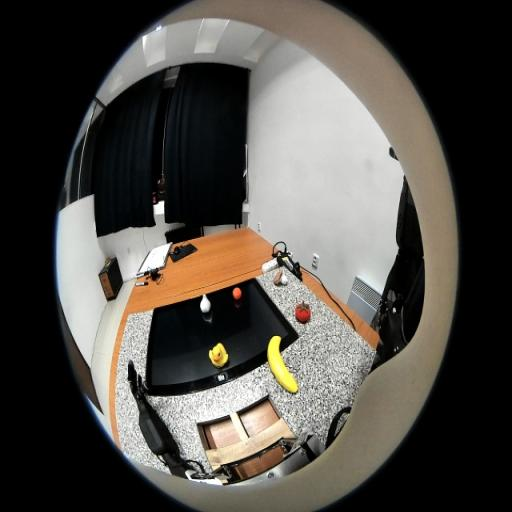Banana: (267, 335, 298, 392)
Duck: (209, 342, 229, 368)
LeftHand: (130, 382, 145, 400)
Mushroom: (274, 272, 288, 286)
Onion: (200, 294, 211, 313)
Orange: (232, 287, 242, 300)
Tomato: (296, 301, 310, 323)
